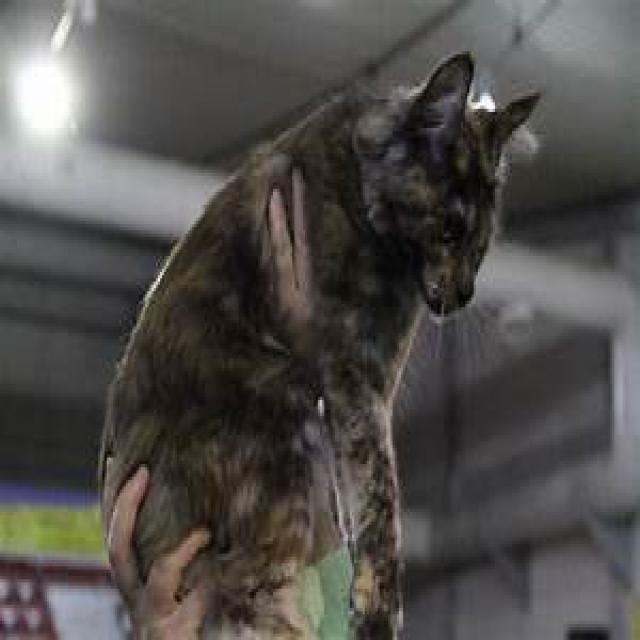animal: (85, 40, 551, 632)
